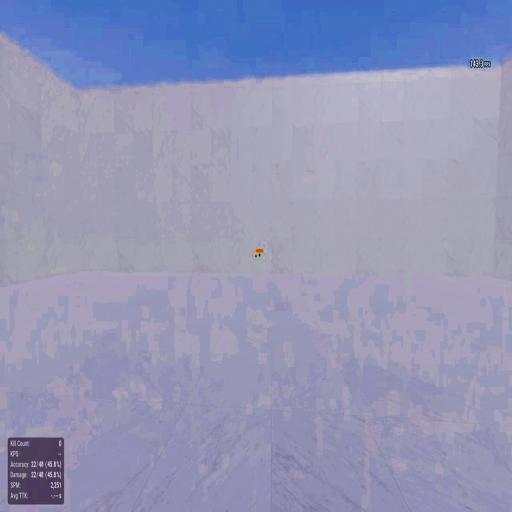Crosshair: (255, 254, 257, 258)
Target: (258, 253, 260, 257)
